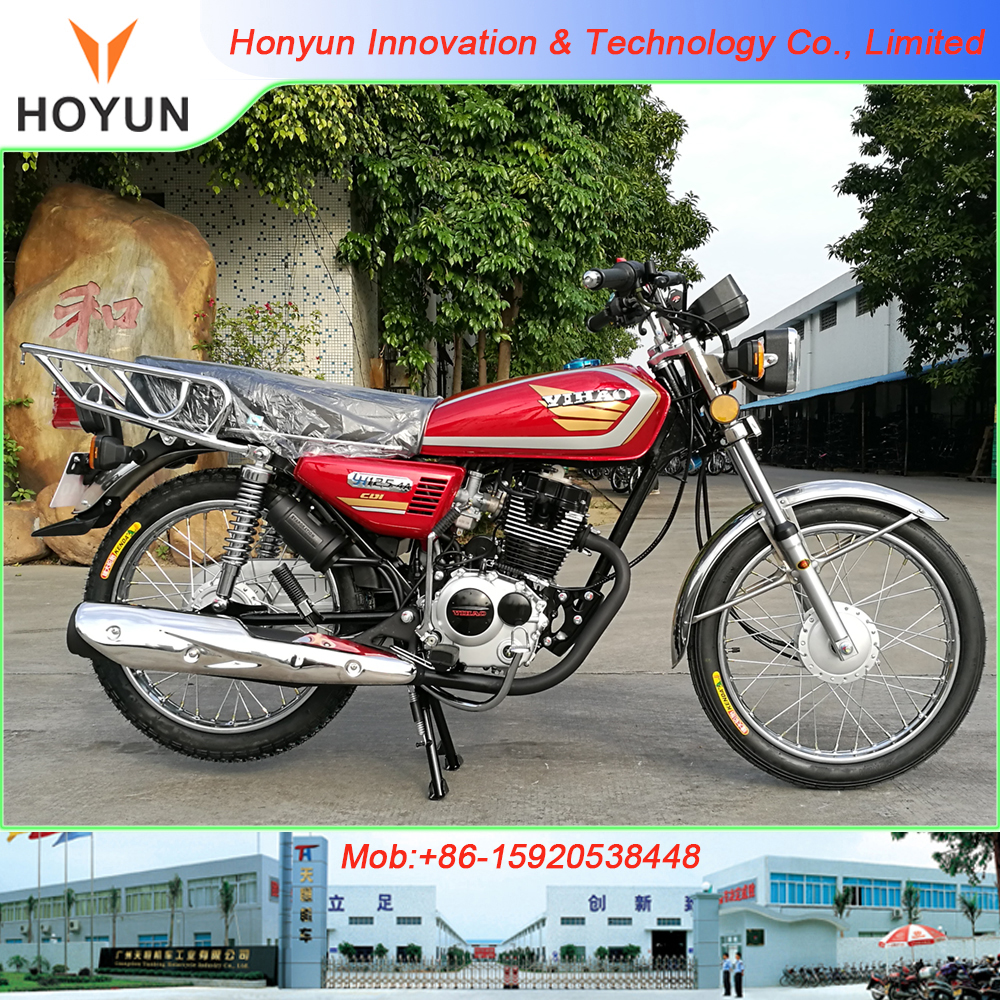motorbike: (16, 321, 989, 784)
